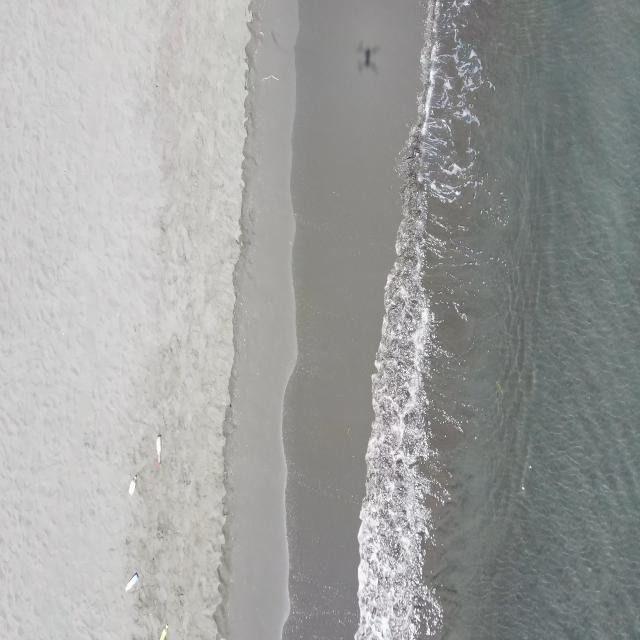plastic-bottle: (125, 572, 139, 592), (154, 436, 163, 466), (127, 473, 138, 497), (159, 623, 171, 640)
